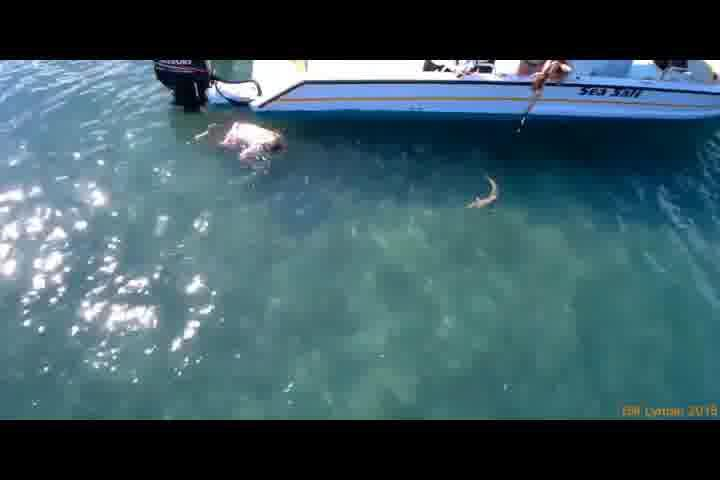swimmer: (210, 119, 284, 164)
